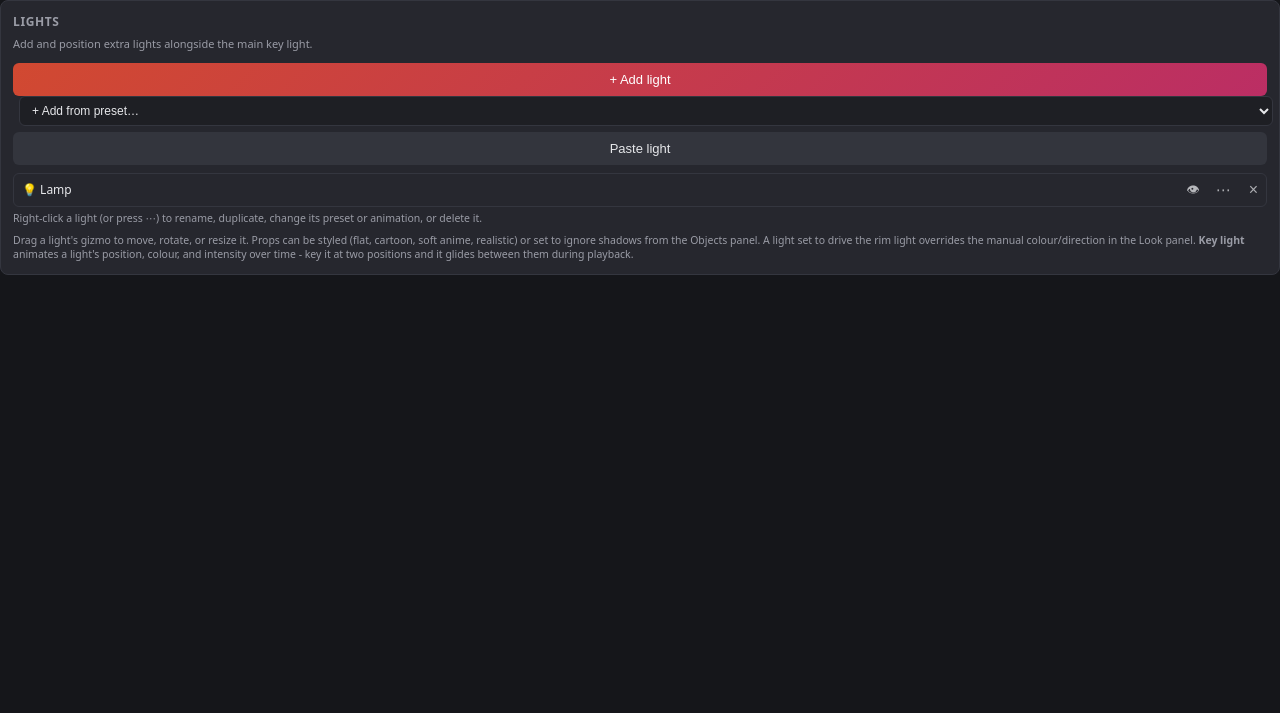
Test: Lights list › the menu toggles shadows with a tick and offers presets and animation
Right-click the text "💡 Lamp 👁 ⋯ ×".
right_click(56, 190)  # box [14, 174, 1266, 206]
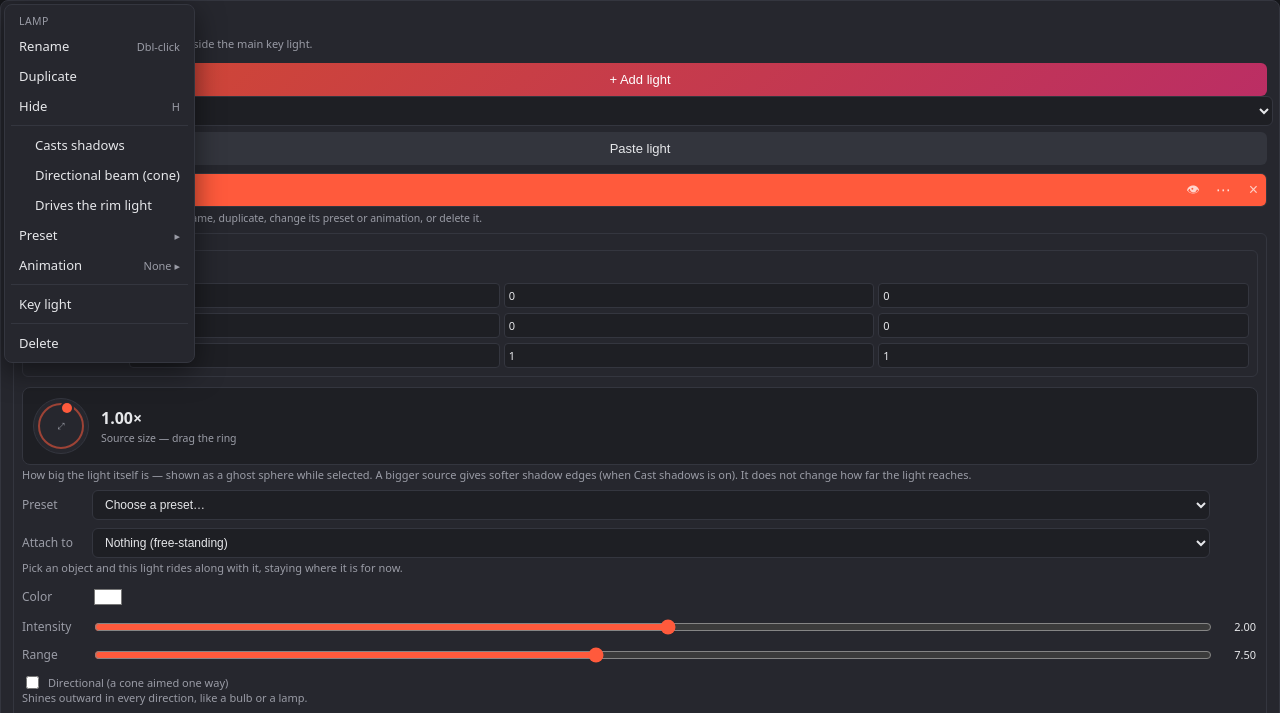
Expected: the menu item "Preset ▸" is shown, [9, 220, 190, 250]
Expected: the menu item "Animation None ▸" is shown, [9, 250, 190, 280]
